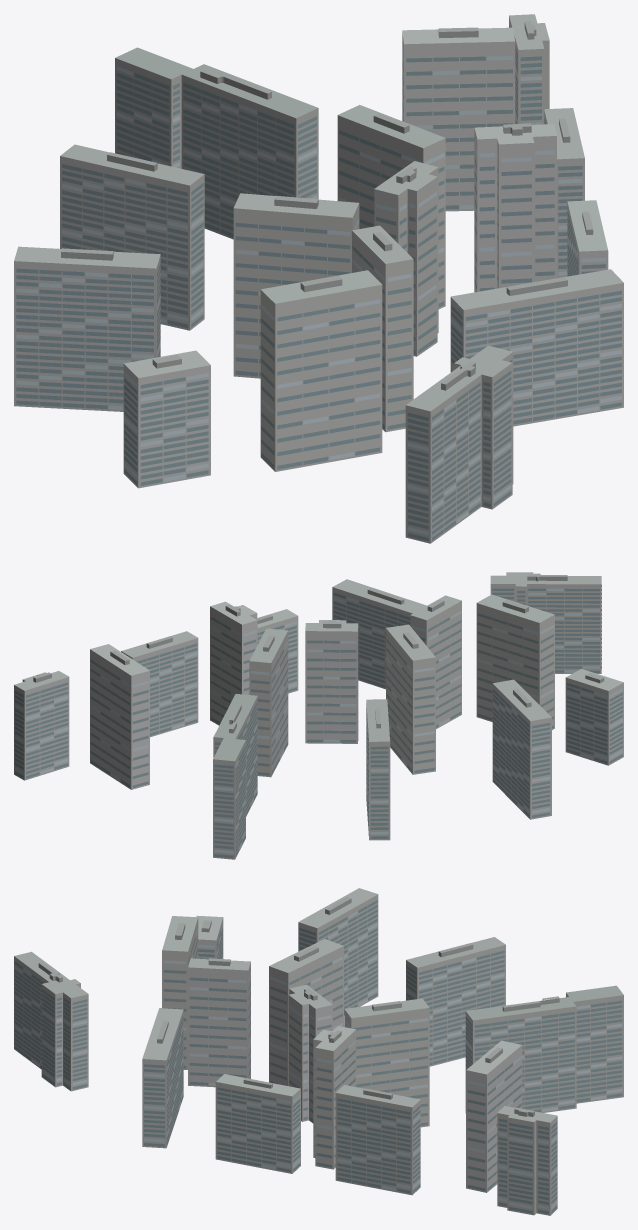
File: apt-a14272305.glb
3 renders of one model, top to bottom at view 1: azimuth 30°, elevation 25°; view 2: azimuth 150°, elevation 25°; view 3: azimuth 270°, elevation 25°, orthographic. The views are drawn at different scales.
Parts seen in each view (by area): view 1: apt-a14272305; view 2: apt-a14272305; view 3: apt-a14272305.
Boxes of the visible parts, left/top/right/bottom form: apt-a14272305: left=14, top=14, right=623, bottom=543; apt-a14272305: left=14, top=572, right=623, bottom=859; apt-a14272305: left=14, top=888, right=623, bottom=1215.
Size of the model in its own units: 268 by 68 by 306.
